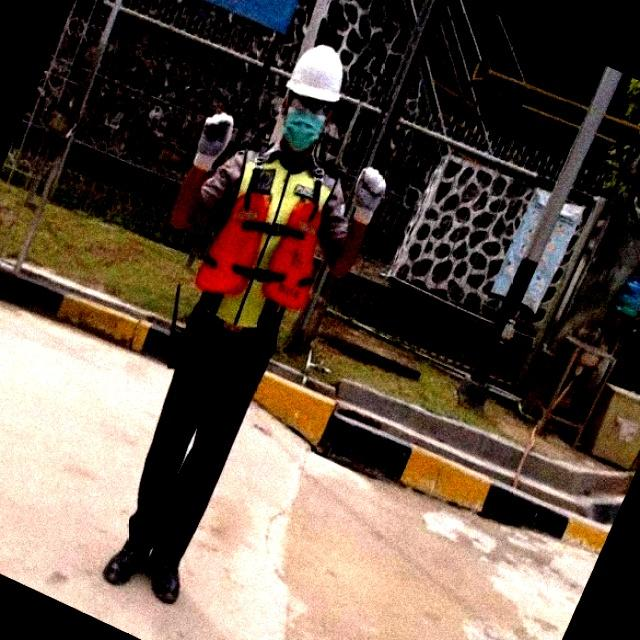helmet: (286, 44, 354, 106)
safety_vest: (210, 156, 343, 346)
